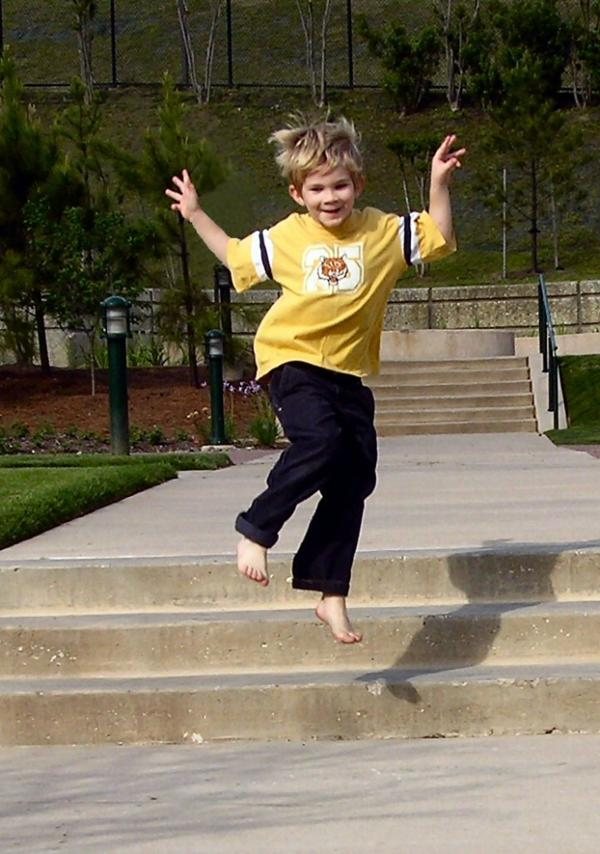person: (168, 104, 463, 643)
